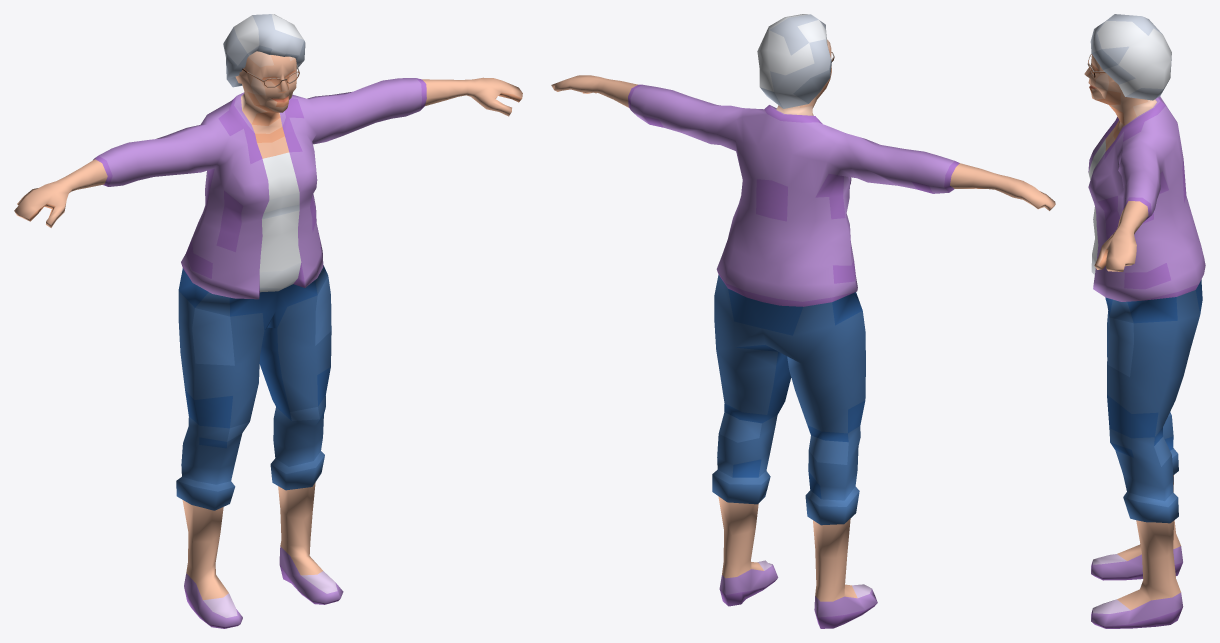
The model's file is elder_Female_A-model.obj.
3 renders of one model, left to right at view 1: azimuth 30°, elevation 25°; view 2: azimuth 150°, elevation 25°; view 3: azimuth 270°, elevation 25°, orthographic.
Parts seen in each view (by area): view 1: elder_Female_A, hair_oldLady; view 2: elder_Female_A, hair_oldLady; view 3: elder_Female_A, hair_oldLady.
Part boxes in pixels (box(x1,y1,x2,y2)): elder_Female_A: box(14, 51, 522, 628); hair_oldLady: box(223, 14, 305, 87); elder_Female_A: box(551, 39, 1055, 628); hair_oldLady: box(757, 14, 831, 108); elder_Female_A: box(1084, 54, 1205, 628); hair_oldLady: box(1090, 14, 1171, 100).
Size of the model in its own units: 146 by 162 by 30.56.
